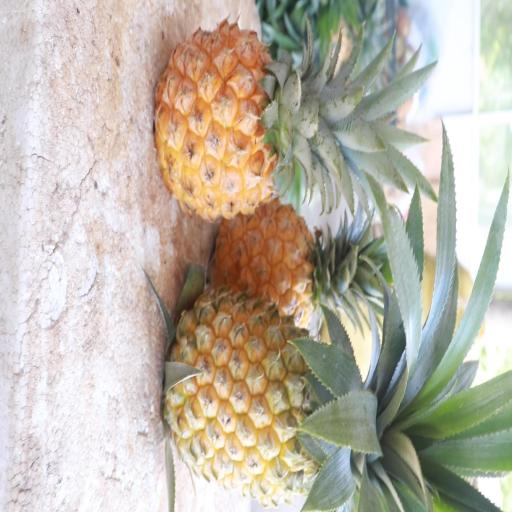Pineapple - v8 v1: (160, 284, 387, 512), (154, 16, 356, 228), (211, 198, 380, 337)
